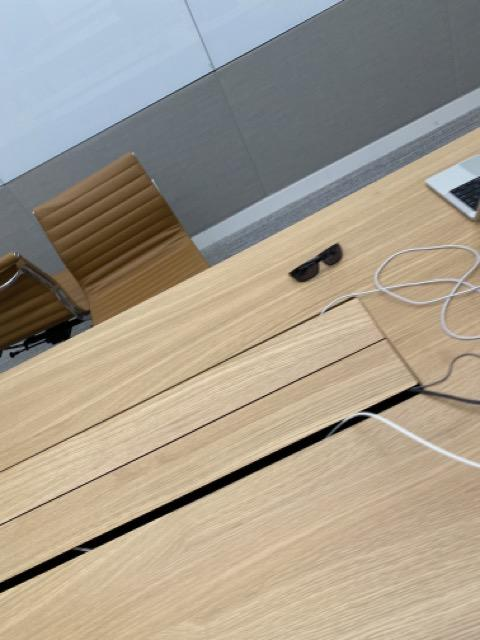Sunglasses: (287, 241, 345, 284)
